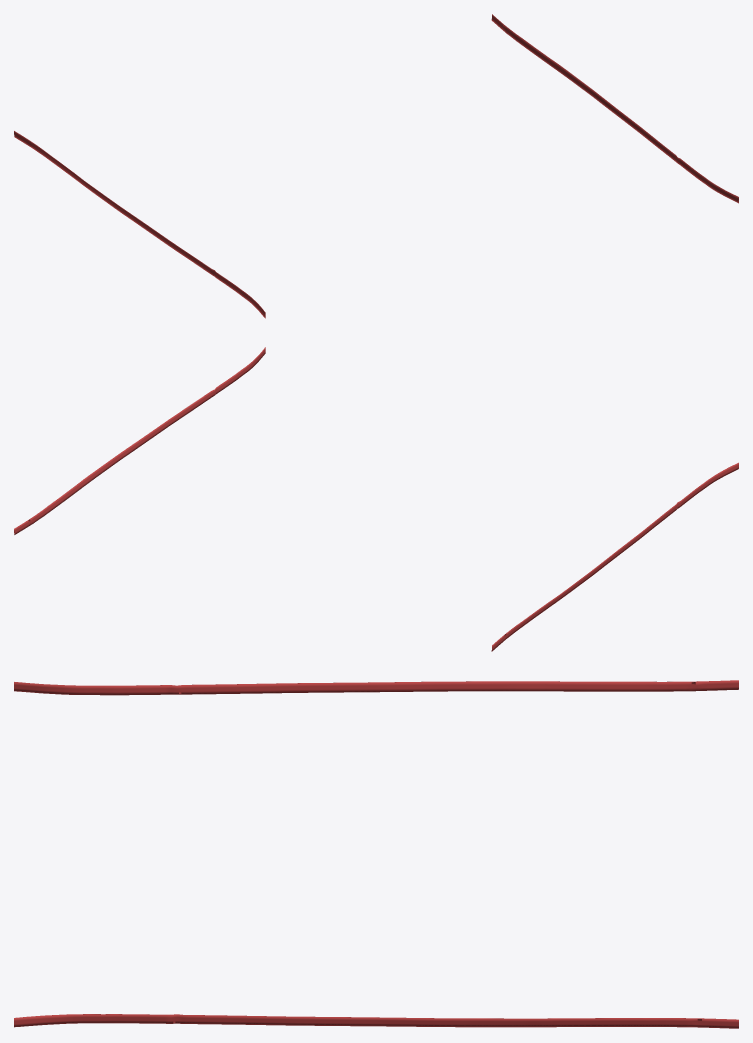
Rendered from DT77_side_stripes_accent.glb.
3 renders of one model, top to bottom at view 1: azimuth 30°, elevation 25°; view 2: azimuth 150°, elevation 25°; view 3: azimuth 270°, elevation 25°, orthographic. The views are drawn at different scales.
Visible parts, largest first — view 1: MOD_ND_DT77_stripe_L, MOD_ND_DT77_stripe_R; view 2: MOD_ND_DT77_stripe_L, MOD_ND_DT77_stripe_R; view 3: MOD_ND_DT77_stripe_R, MOD_ND_DT77_stripe_L.
Part boxes in pixels (x1=…): MOD_ND_DT77_stripe_L: x1=491, y1=14, x2=738, y2=203; MOD_ND_DT77_stripe_R: x1=14, y1=131, x2=265, y2=318; MOD_ND_DT77_stripe_L: x1=14, y1=347, x2=265, y2=534; MOD_ND_DT77_stripe_R: x1=491, y1=462, x2=738, y2=651; MOD_ND_DT77_stripe_R: x1=14, y1=680, x2=738, y2=695; MOD_ND_DT77_stripe_L: x1=14, y1=1014, x2=738, y2=1028.
Bounding box in the file's own units: 1.72 × 0.0225 × 1.55.
